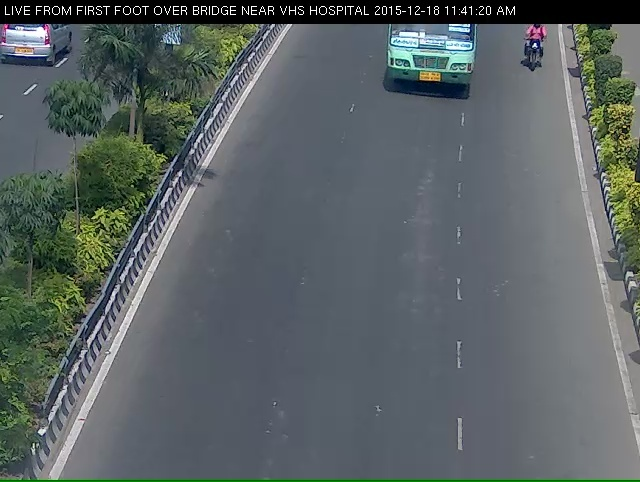Bus: (378, 22, 481, 111)
Person: (523, 31, 555, 88)
